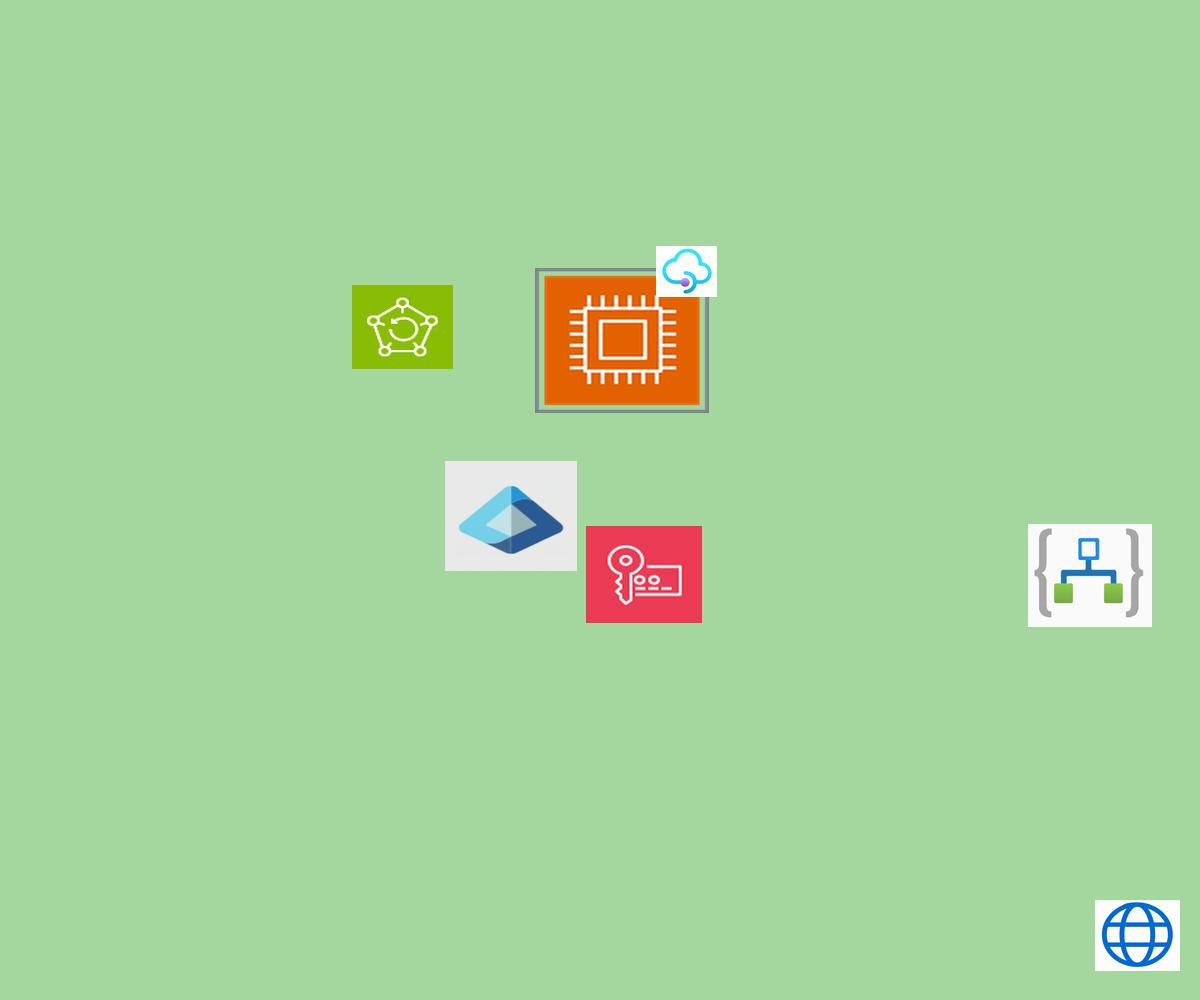AWS-Backup: (352, 285, 453, 369)
AWS-Category_Compute: (535, 268, 709, 413)
AWS-Key-Management-Service: (586, 526, 702, 623)
Azure_api_gateway: (656, 246, 717, 297)
Azure_http: (1095, 900, 1180, 971)
Azure_integration-204-Logic-Apps: (1028, 524, 1152, 627)
Azure_microsoft_entra: (445, 461, 577, 571)
